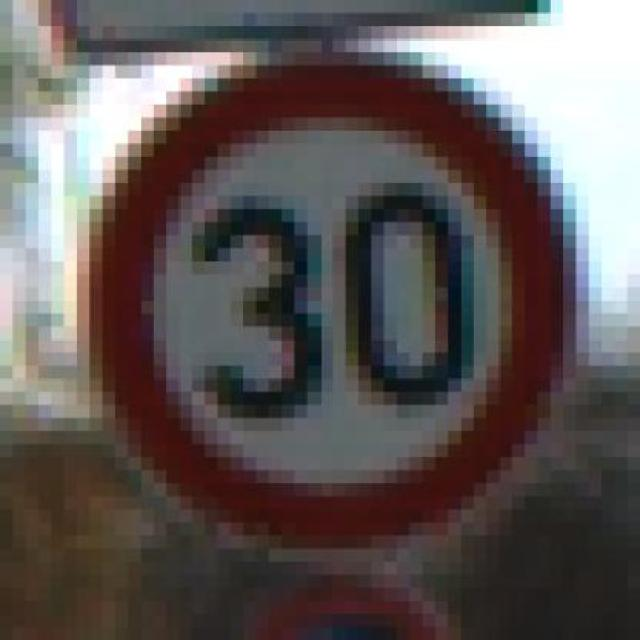Speed Limit 30 KMPh: (51, 39, 602, 575)
